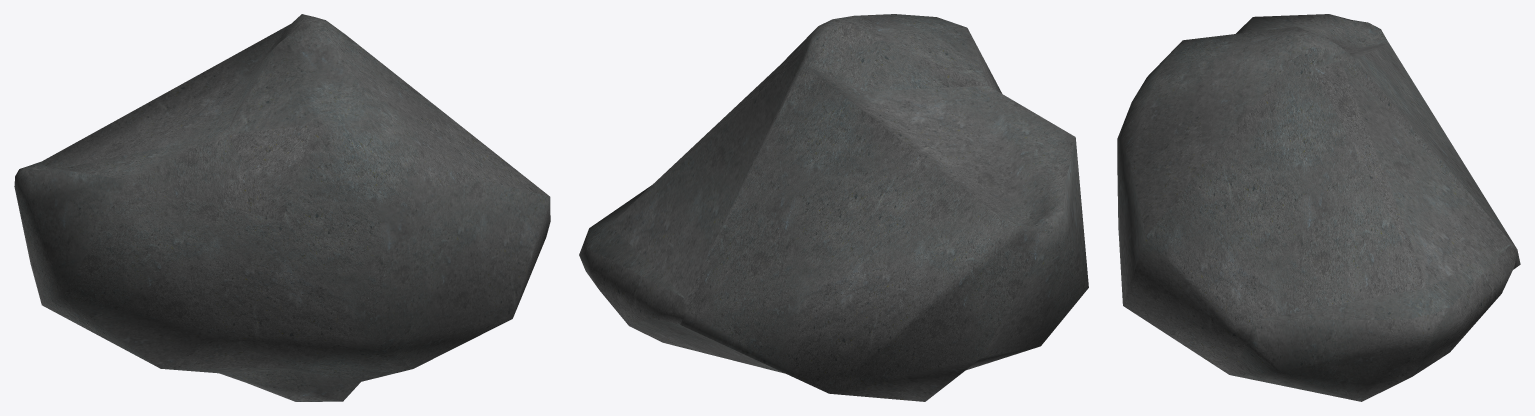
Rendered from rock.003.obj.
3 views of the same model, side by side, from view 1: azimuth 30°, elevation 25°; view 2: azimuth 150°, elevation 25°; view 3: azimuth 270°, elevation 25° (orthographic). The views are drawn at different scales.
Bounding box in the file's own units: 1.57 × 1.18 × 1.27.
Materials: 1 (1 with a texture image).
